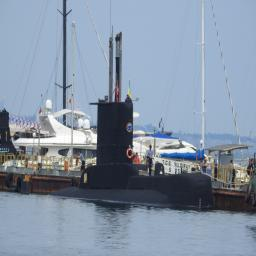submarine: (54, 30, 216, 211)
